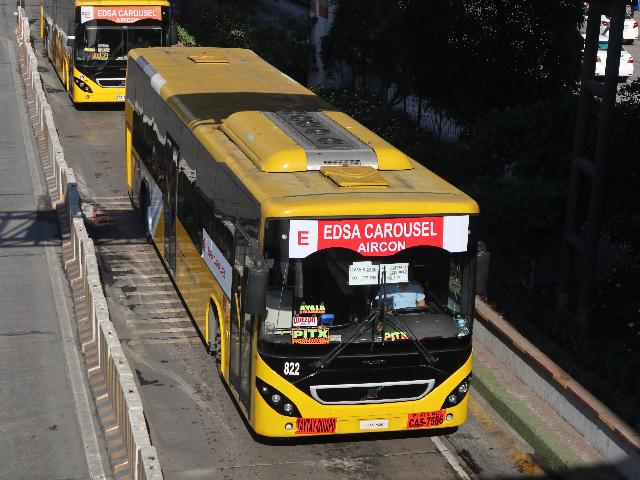bus: (121, 41, 479, 442), (38, 0, 177, 109)
